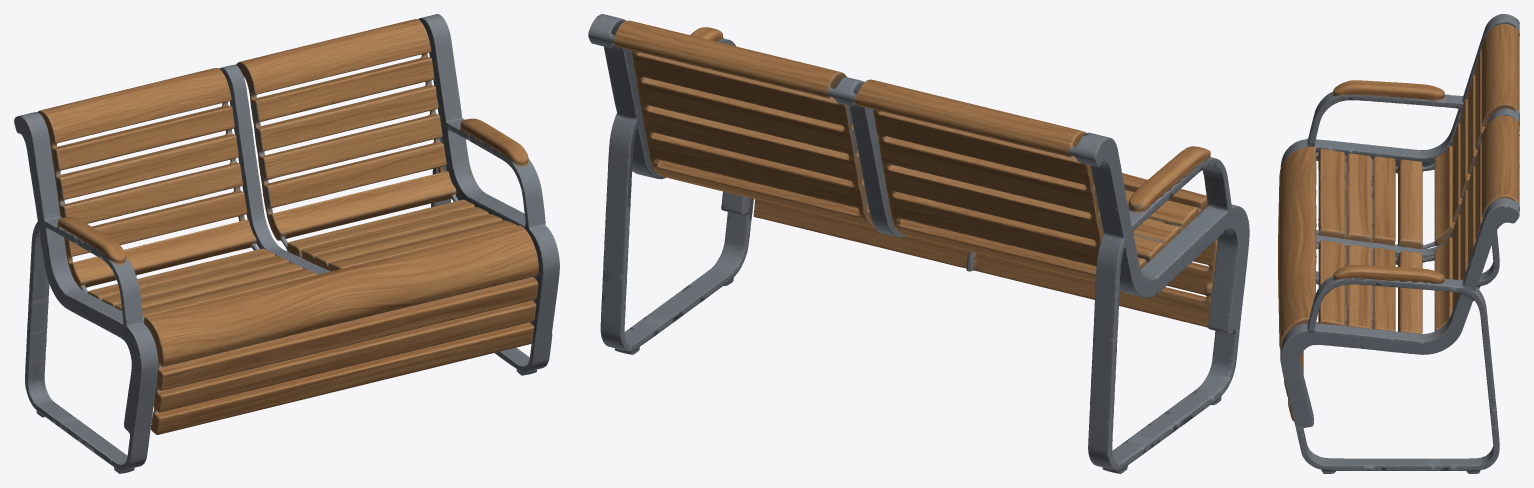
File: bench.glb
3 views of the same model, side by side, from view 1: azimuth 30°, elevation 25°; view 2: azimuth 150°, elevation 25°; view 3: azimuth 270°, elevation 25° (orthographic). The views are drawn at different scales.
Size of the model in its own units: 1.9 by 1.24 by 1.01.
1 material, 1 textured.
